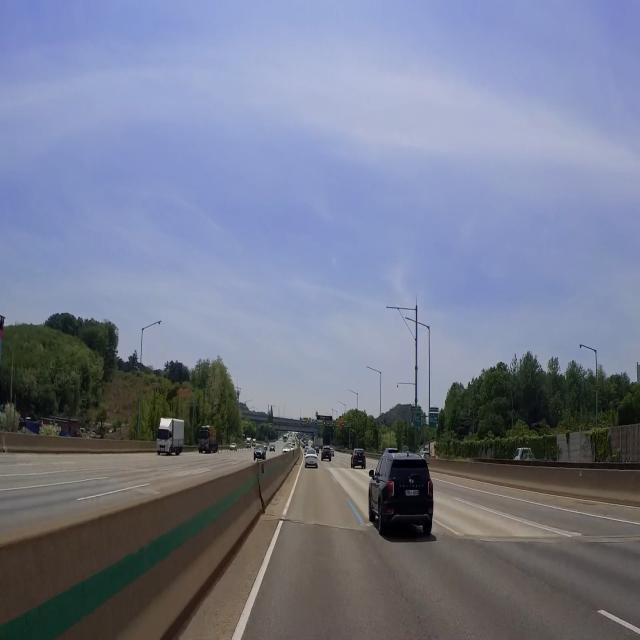car: (404, 488, 420, 499), (308, 461, 314, 465), (357, 460, 363, 464), (256, 453, 260, 458), (160, 447, 164, 451), (325, 455, 329, 458), (201, 446, 204, 449)
